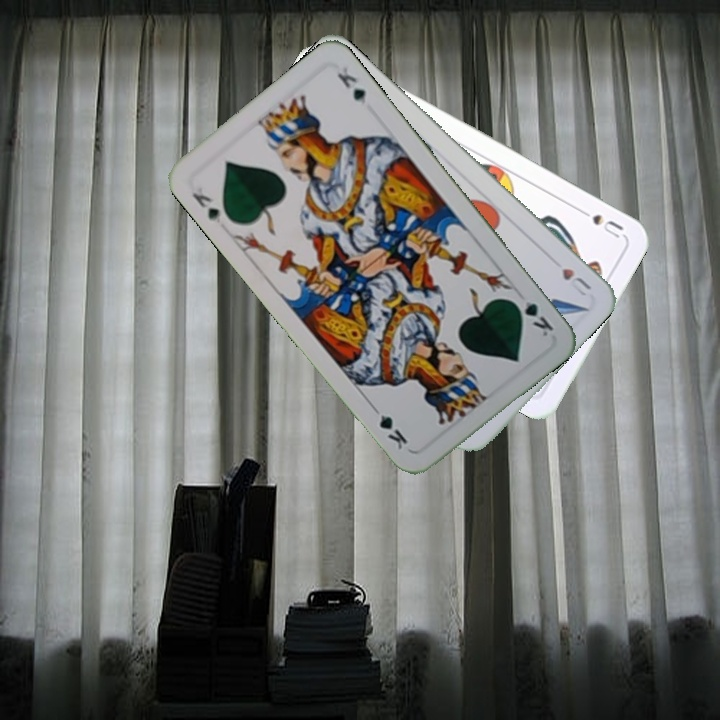GK: (507, 295, 557, 341), (187, 188, 227, 226)
HU: (557, 264, 594, 299)
SU: (572, 203, 626, 241)
